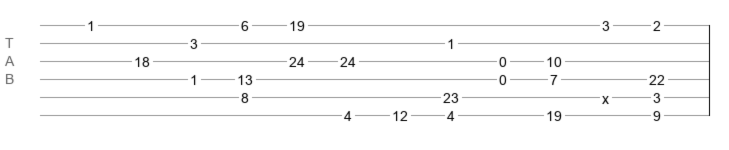0: (499, 54, 507, 64), (499, 72, 507, 82)
1: (87, 18, 95, 28), (190, 72, 198, 82), (447, 36, 455, 46)
10: (546, 54, 562, 64)
12: (392, 108, 408, 118)
13: (237, 72, 253, 82)
18: (134, 54, 150, 64)
19: (289, 18, 305, 28), (546, 108, 562, 118)
2: (653, 18, 661, 28)
22: (649, 72, 665, 82)
23: (443, 90, 459, 100)
24: (289, 54, 305, 64), (340, 54, 356, 64)
3: (190, 36, 198, 46), (602, 18, 610, 28), (653, 90, 661, 100)
4: (344, 108, 352, 118), (447, 108, 455, 118)
6: (241, 18, 249, 28)
7: (550, 72, 558, 82)
8: (241, 90, 249, 100)
9: (653, 108, 661, 118)
x: (602, 91, 609, 99)
